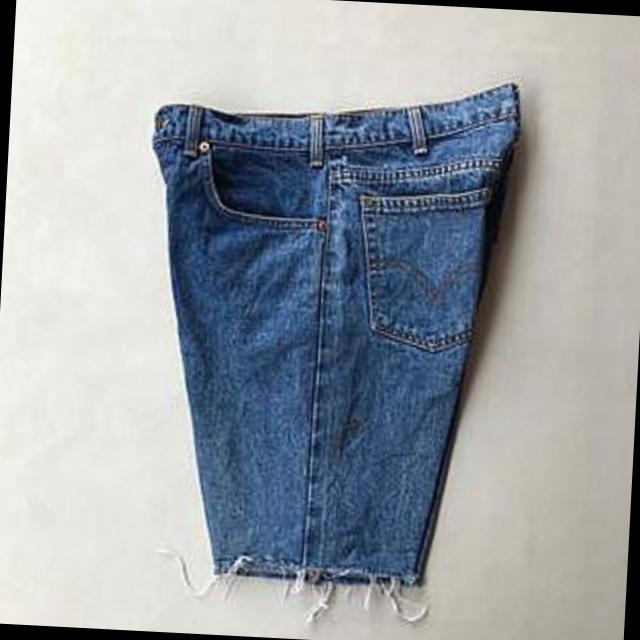SHORT: (96, 56, 549, 604)
